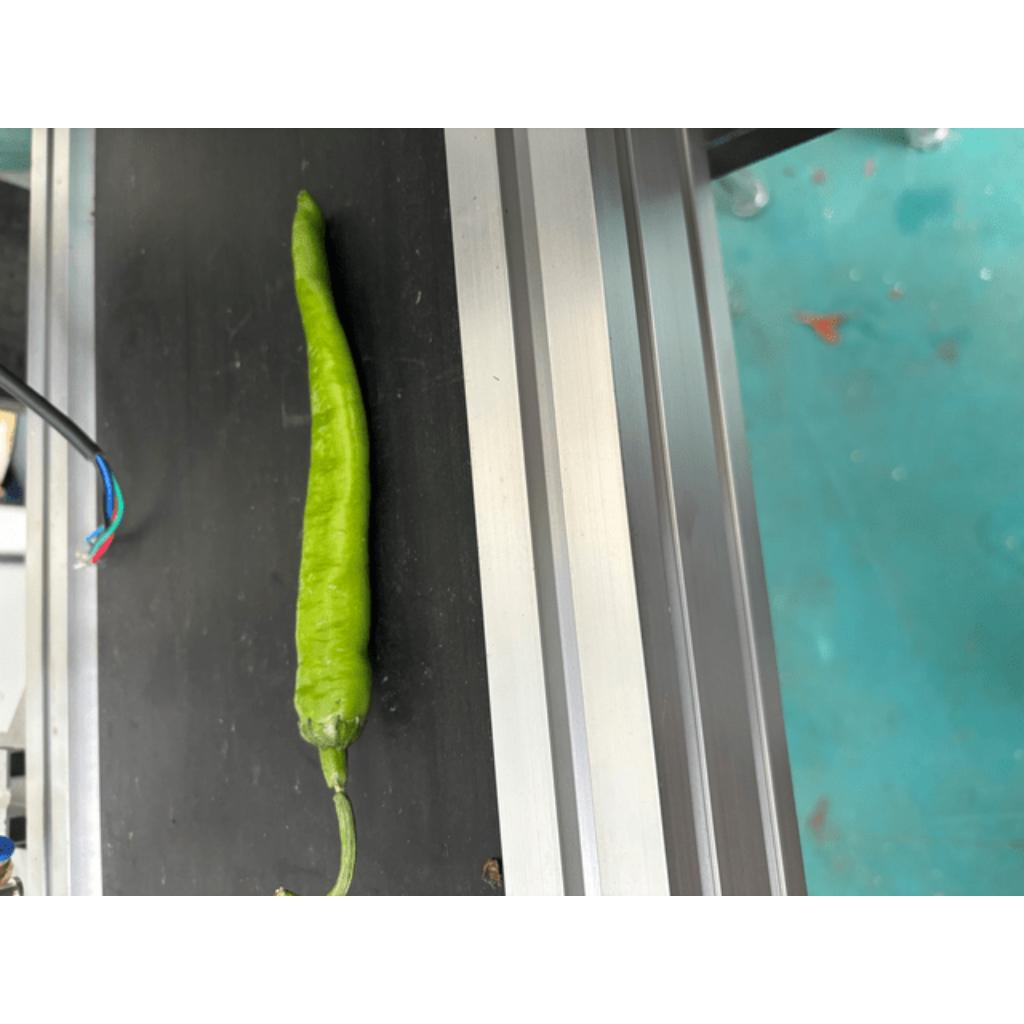chili: (290, 185, 377, 753)
